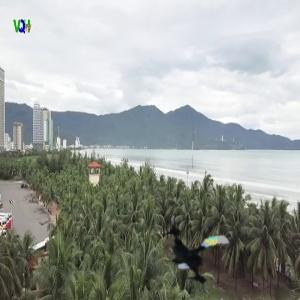drone: (153, 212, 239, 298)
